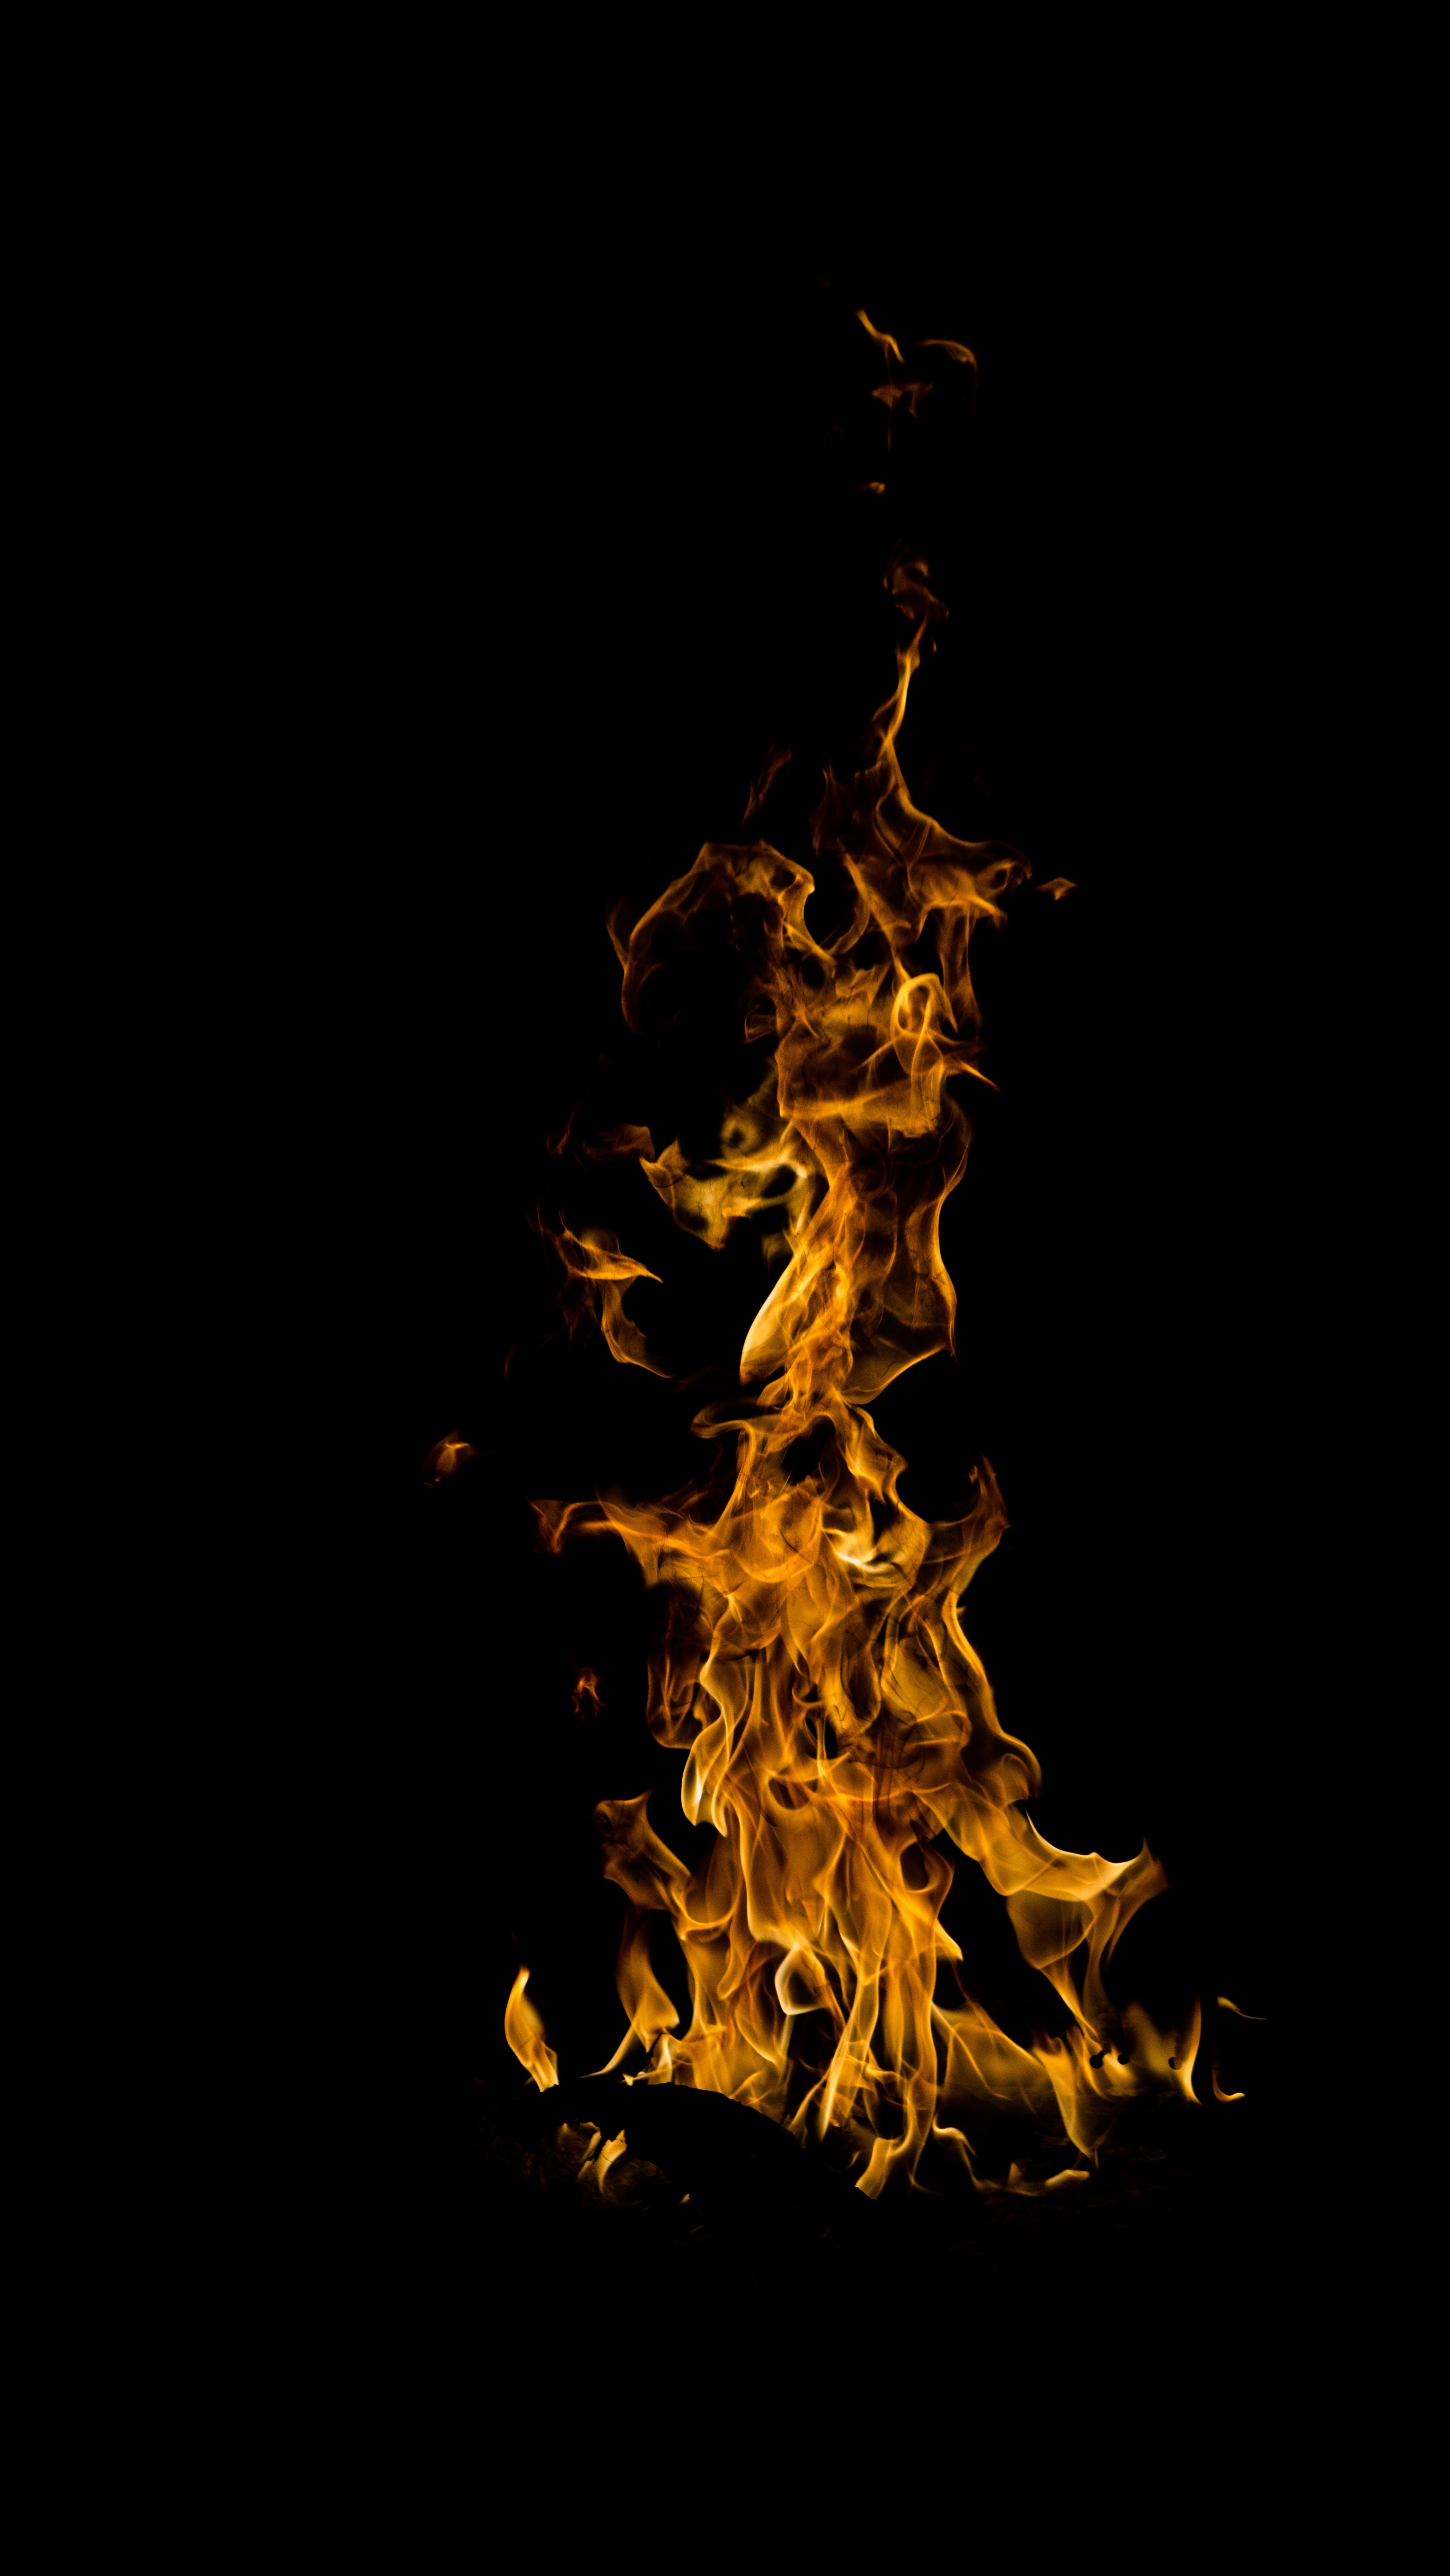fire: (437, 495, 1213, 2215)
